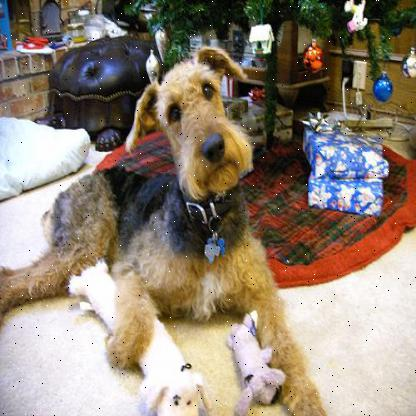dog: (29, 38, 332, 373)
